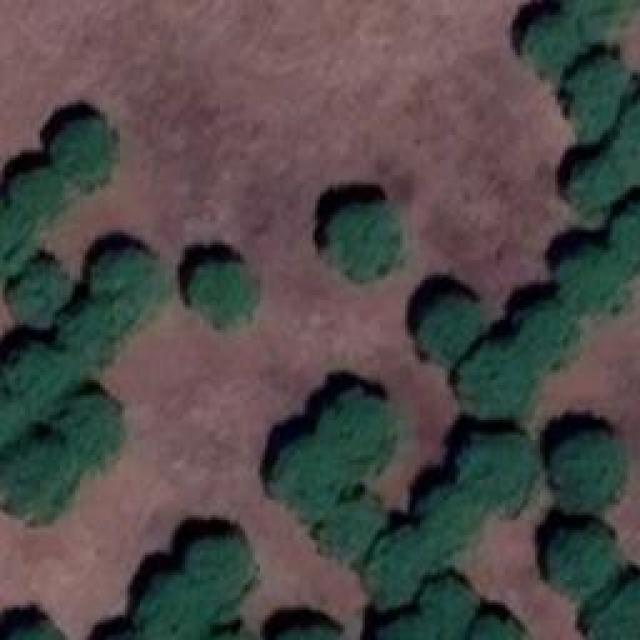Tree: (548, 520, 621, 605), (0, 432, 68, 520), (457, 435, 525, 513), (328, 203, 401, 273), (462, 343, 530, 418), (558, 433, 623, 508), (5, 345, 73, 413), (273, 445, 338, 515), (55, 115, 118, 185), (93, 248, 158, 313), (328, 395, 388, 465), (415, 295, 478, 360), (560, 252, 630, 310), (144, 577, 207, 640), (568, 58, 623, 128), (420, 485, 475, 555), (518, 295, 573, 363), (368, 530, 421, 600), (190, 262, 253, 320), (320, 495, 375, 560), (65, 393, 118, 458), (13, 263, 68, 323), (568, 150, 623, 208), (63, 305, 118, 363), (188, 540, 243, 598), (523, 15, 576, 73), (10, 170, 65, 225), (420, 575, 473, 628), (590, 585, 640, 640), (0, 200, 30, 283), (560, 0, 628, 30), (612, 203, 640, 263), (367, 617, 434, 640), (2, 617, 69, 640), (470, 615, 528, 640), (0, 390, 15, 458)
